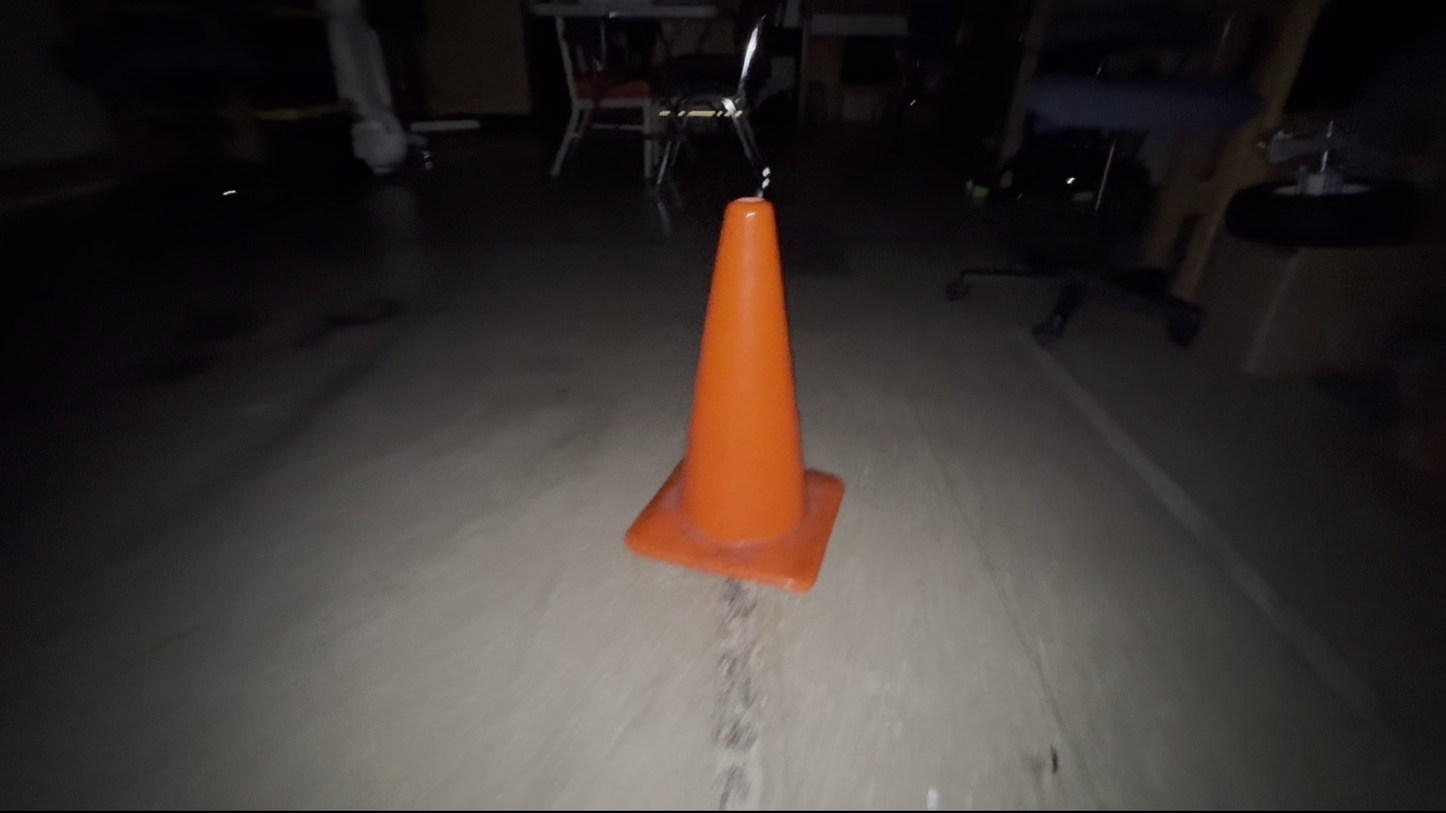traffic_cone: (623, 194, 846, 594)
